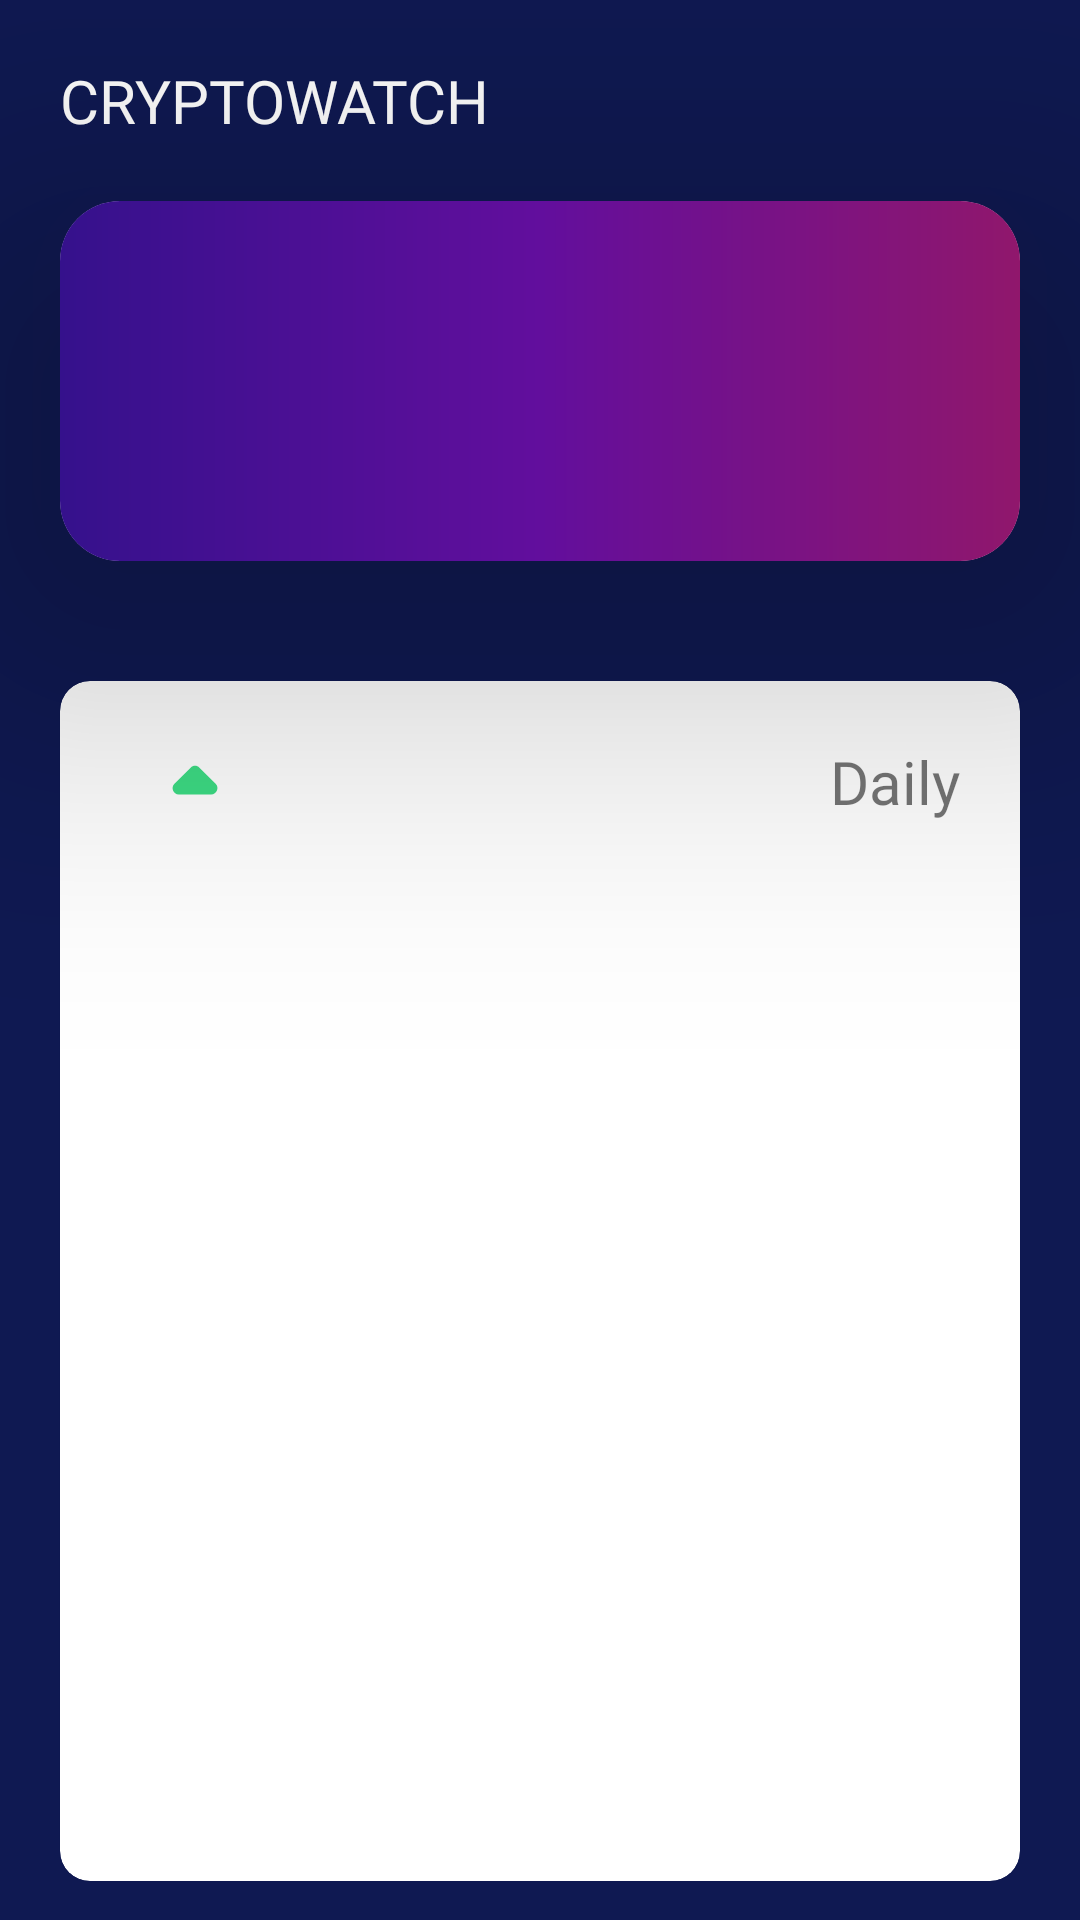

Named icons in this screenshot (1080 x 1920) and their centers, point (x, y):
price up: point (195, 780)
